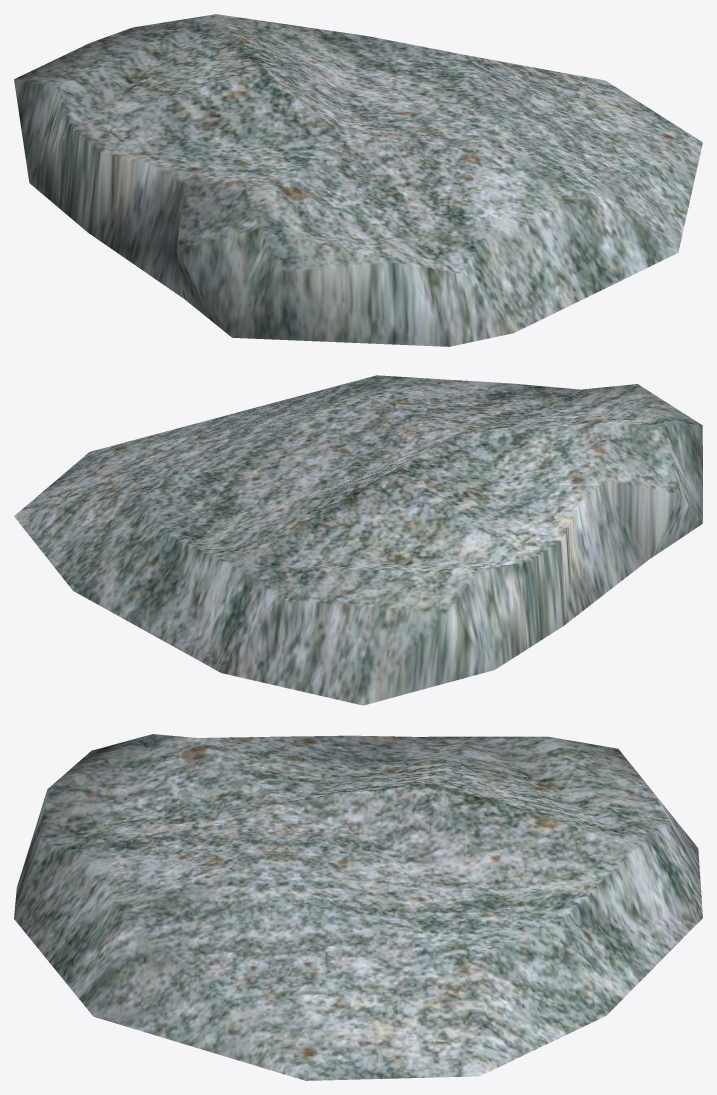
The model's file is rock_graniteslab_medium_a2_l1.fbx.
The picture shows the model from 3 angles, top to bottom: view 1: azimuth 30°, elevation 25°; view 2: azimuth 150°, elevation 25°; view 3: azimuth 270°, elevation 25°; orthographic projection. The views are drawn at different scales.
Parts seen in each view (by area): view 1: mesh_node; view 2: mesh_node; view 3: mesh_node.
Boxes of the visible parts, x1,y1,x2,y2 form: mesh_node: (14, 14, 702, 346); mesh_node: (14, 375, 702, 705); mesh_node: (14, 734, 702, 1080).
Bounding box in the file's own units: 1.51 × 0.2973 × 1.6.
